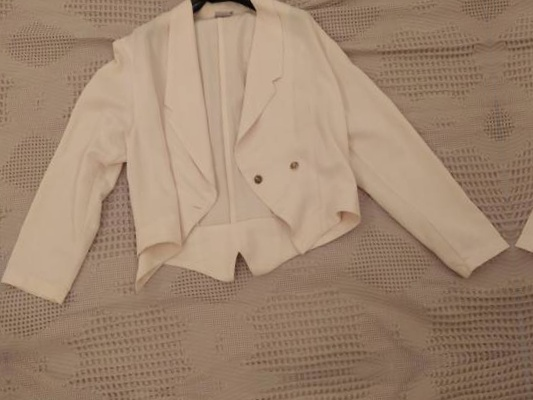Blazer: (0, 0, 518, 349), (481, 0, 533, 292), (532, 355, 533, 400)
